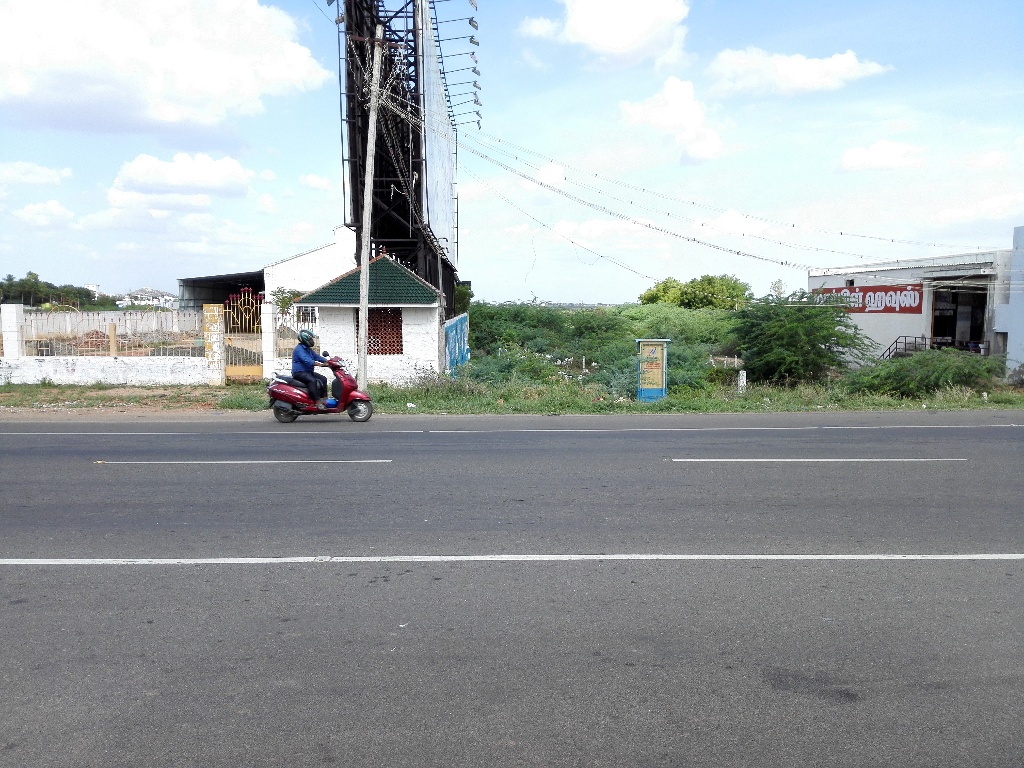biker: (246, 292, 400, 439)
helmet: (291, 318, 326, 363)
